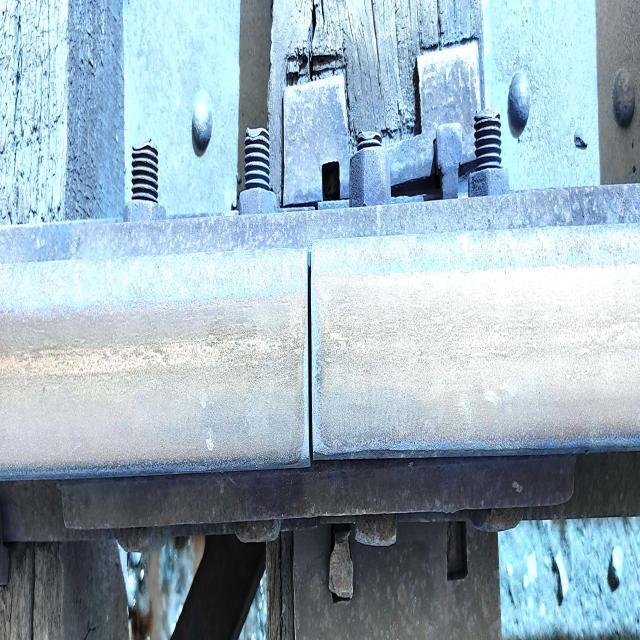Good Fasteners: (435, 123, 462, 199), (328, 524, 353, 601)
Missing Dogscrew: (446, 521, 468, 581), (322, 162, 340, 200)
